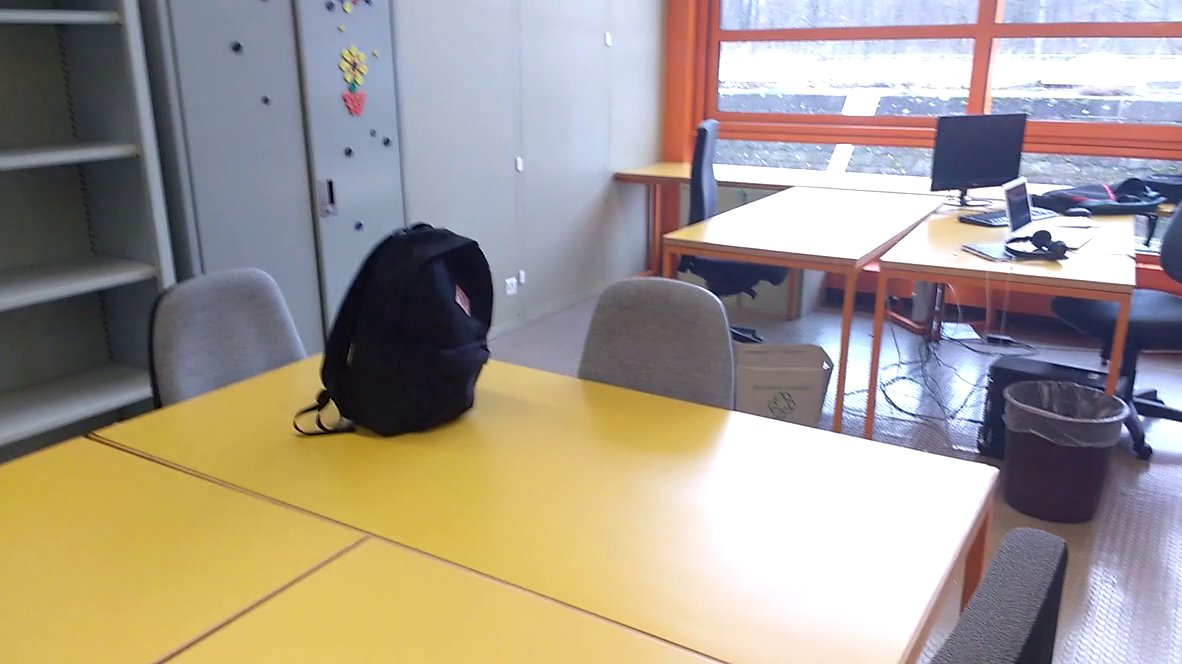bag: (290, 217, 500, 442)
bin: (994, 372, 1142, 532)
box: (728, 332, 839, 429)
chair: (661, 111, 807, 366), (571, 265, 747, 438), (112, 258, 318, 404)
